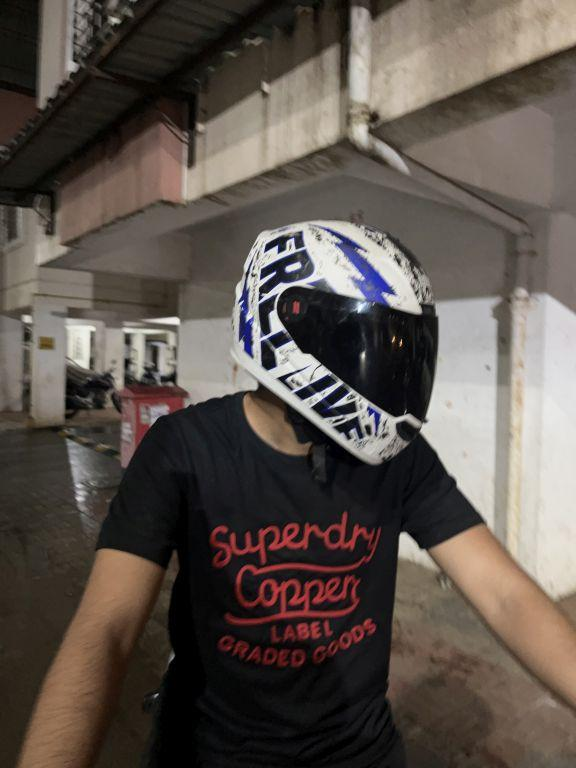helmet: (219, 202, 449, 481)
